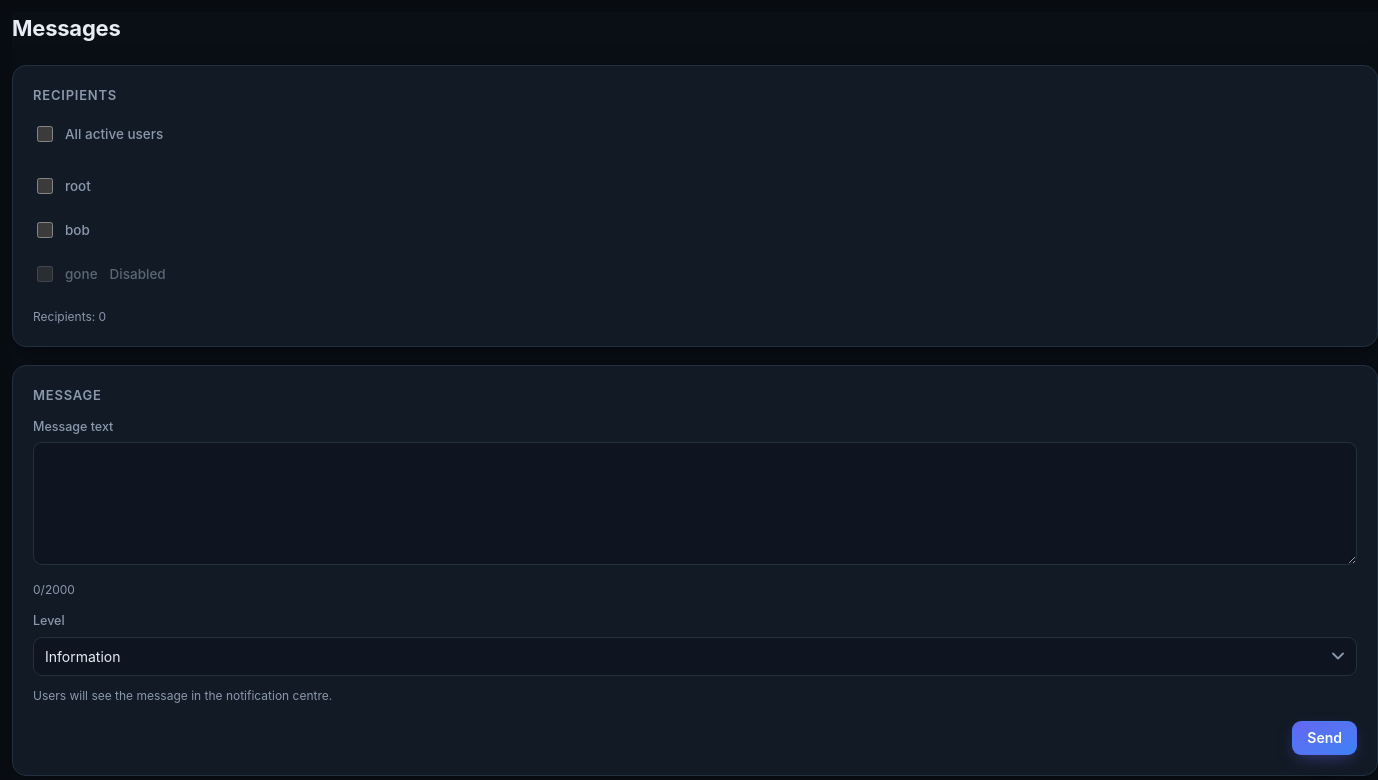
switching between "all" and single recipients › unchecking "all" leaves no recipients until a user is picked
Expected: the checkbox labelled "bob" is shown, x1=37 y1=222 x2=53 y2=238
Click the checkbox labelled "All active users" at (45, 134), box x1=37 y1=126 x2=53 y2=142
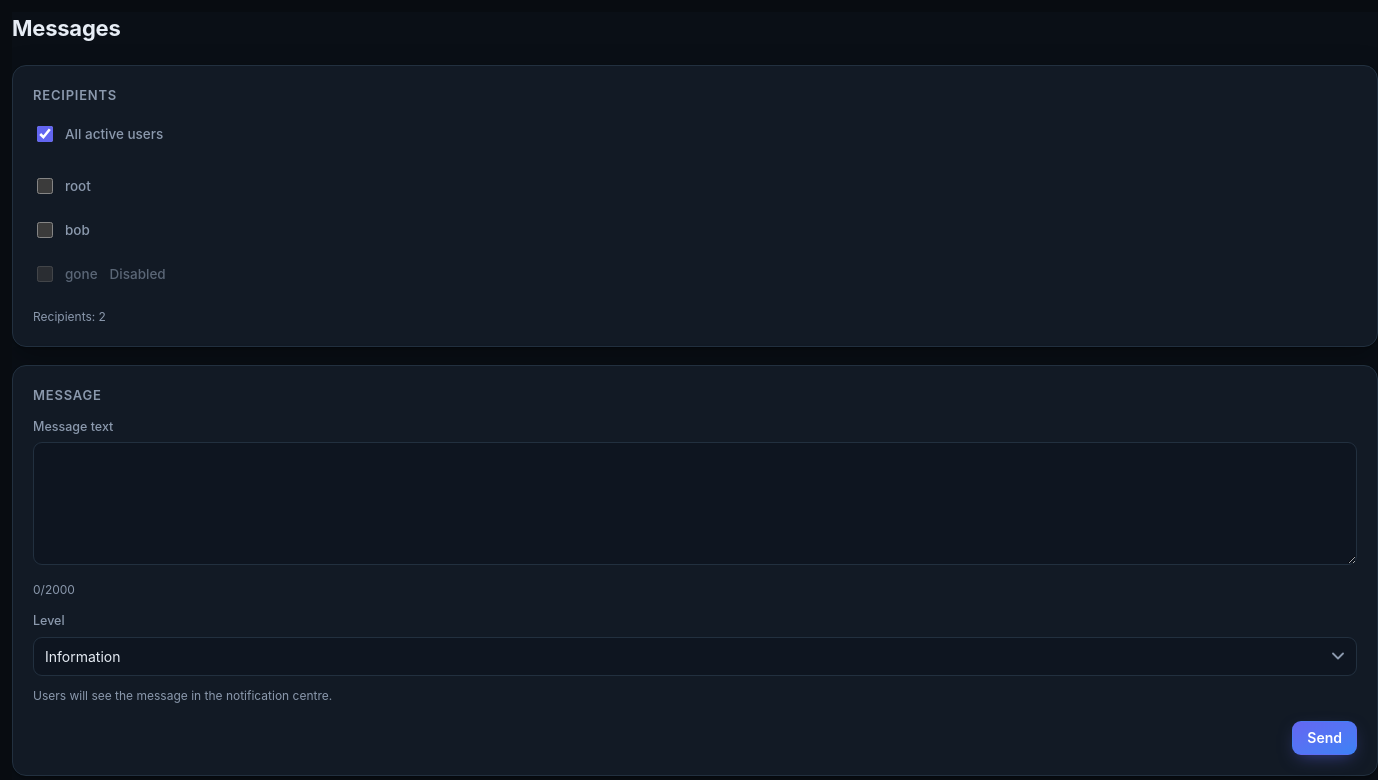
Click the checkbox labelled "All active users" at (45, 134), box x1=37 y1=126 x2=53 y2=142
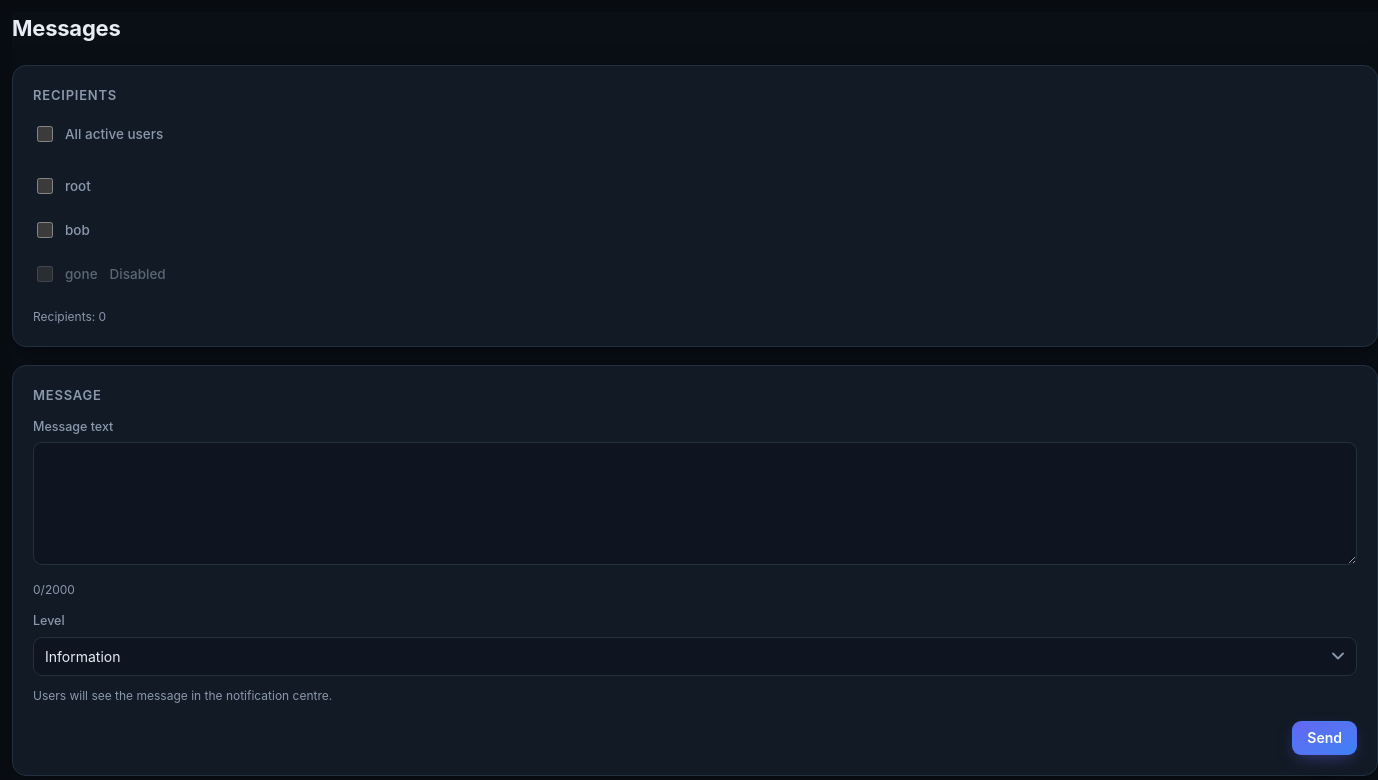
Result: the text "Recipients: 0" is shown at x1=33 y1=308 x2=106 y2=324
